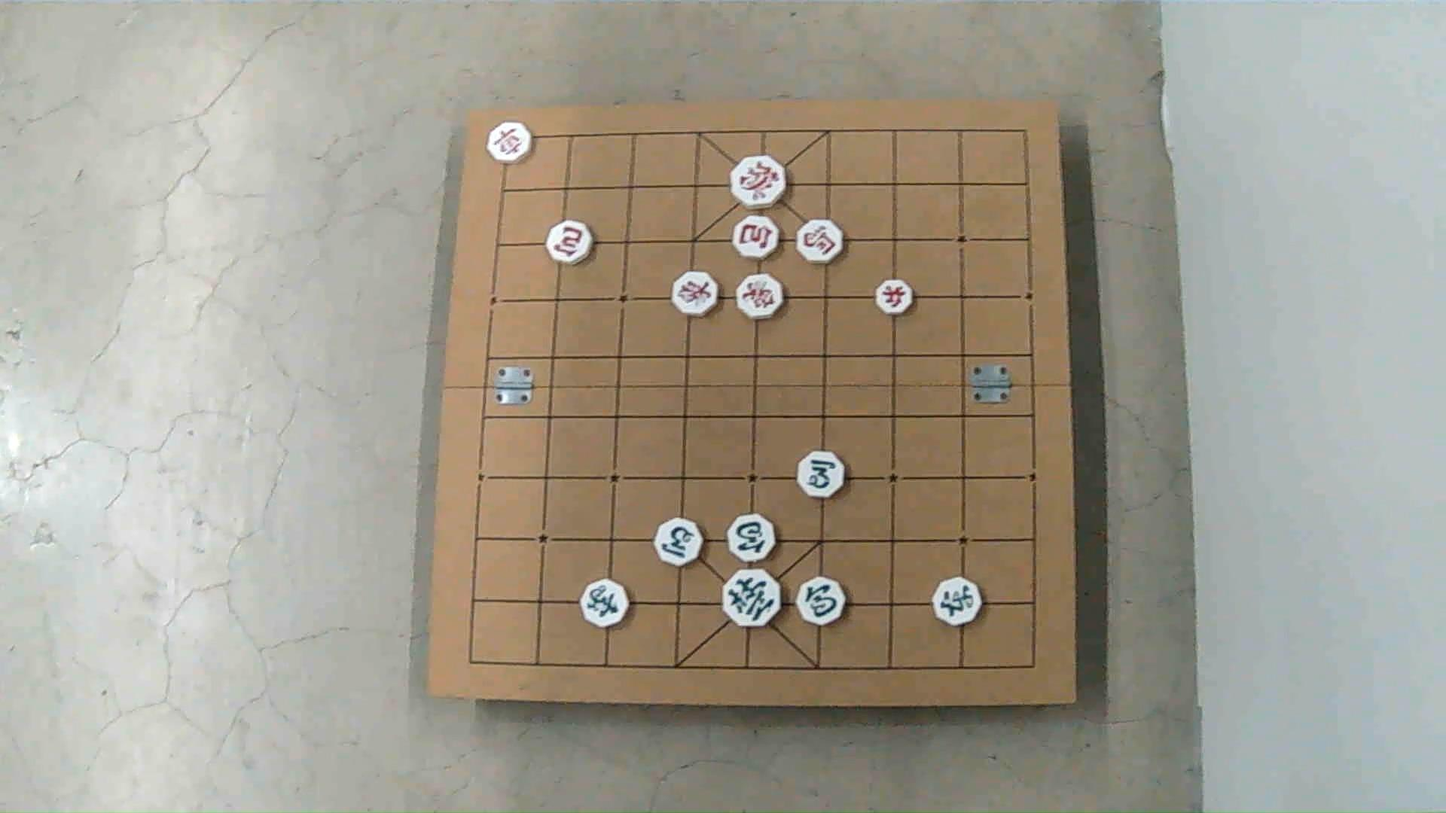cha_green: (935, 578, 983, 626)
cha_red: (486, 122, 531, 163)
jol_red: (876, 280, 913, 316)
ma_green: (653, 519, 702, 567), (796, 450, 844, 498)
ma_red: (796, 218, 844, 262)
po_green: (796, 577, 845, 626), (728, 513, 776, 561)
po_red: (731, 215, 778, 259), (548, 220, 594, 263)
sang_green: (581, 580, 630, 628)
sang_red: (737, 273, 785, 318), (671, 272, 718, 316)
wang_green: (722, 568, 782, 627)
wang_red: (729, 155, 786, 207)
